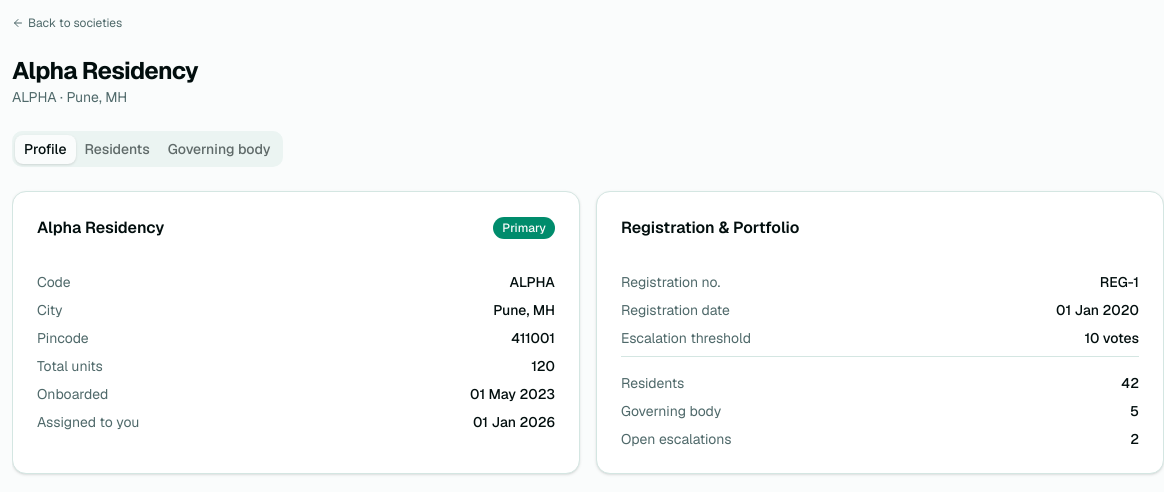
CounsellorSocietyDetailPage › shows loading text for governing body while fetching
Click the tab "Governing body": (219, 149) [159,134,280,164]
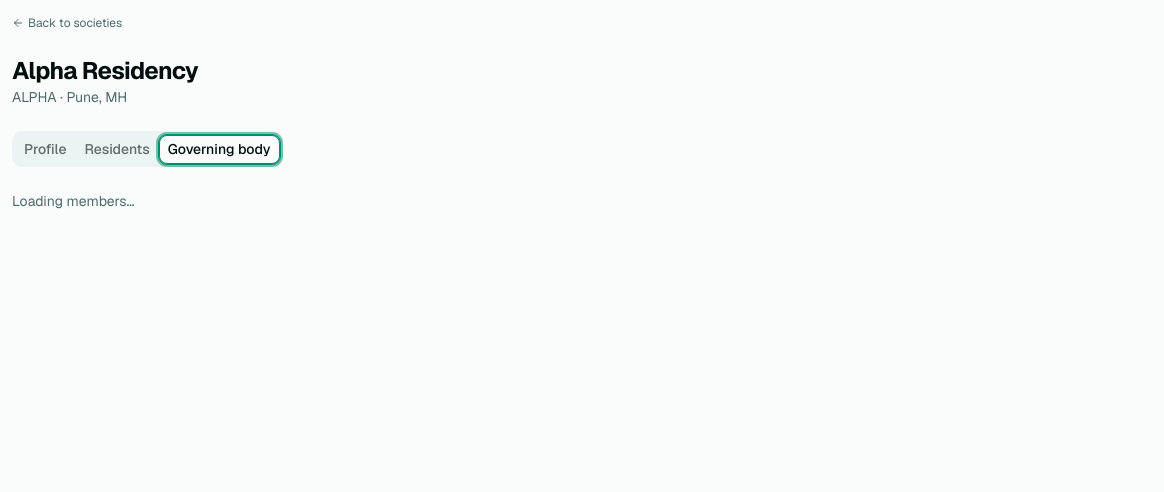
Now the text "Loading members…" is shown, box [12,192,135,210]
